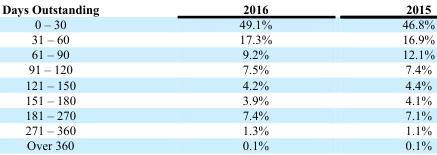table: (1, 1, 434, 151)
table column: (168, 1, 336, 151), (1, 1, 168, 151), (336, 1, 434, 151)
table column header: (1, 1, 434, 16)
table row: (1, 106, 434, 122), (1, 1, 434, 16), (1, 16, 434, 31), (1, 31, 434, 46), (1, 46, 434, 61), (1, 61, 434, 76), (1, 76, 434, 91), (1, 91, 434, 106), (1, 122, 434, 137), (1, 137, 434, 151)
